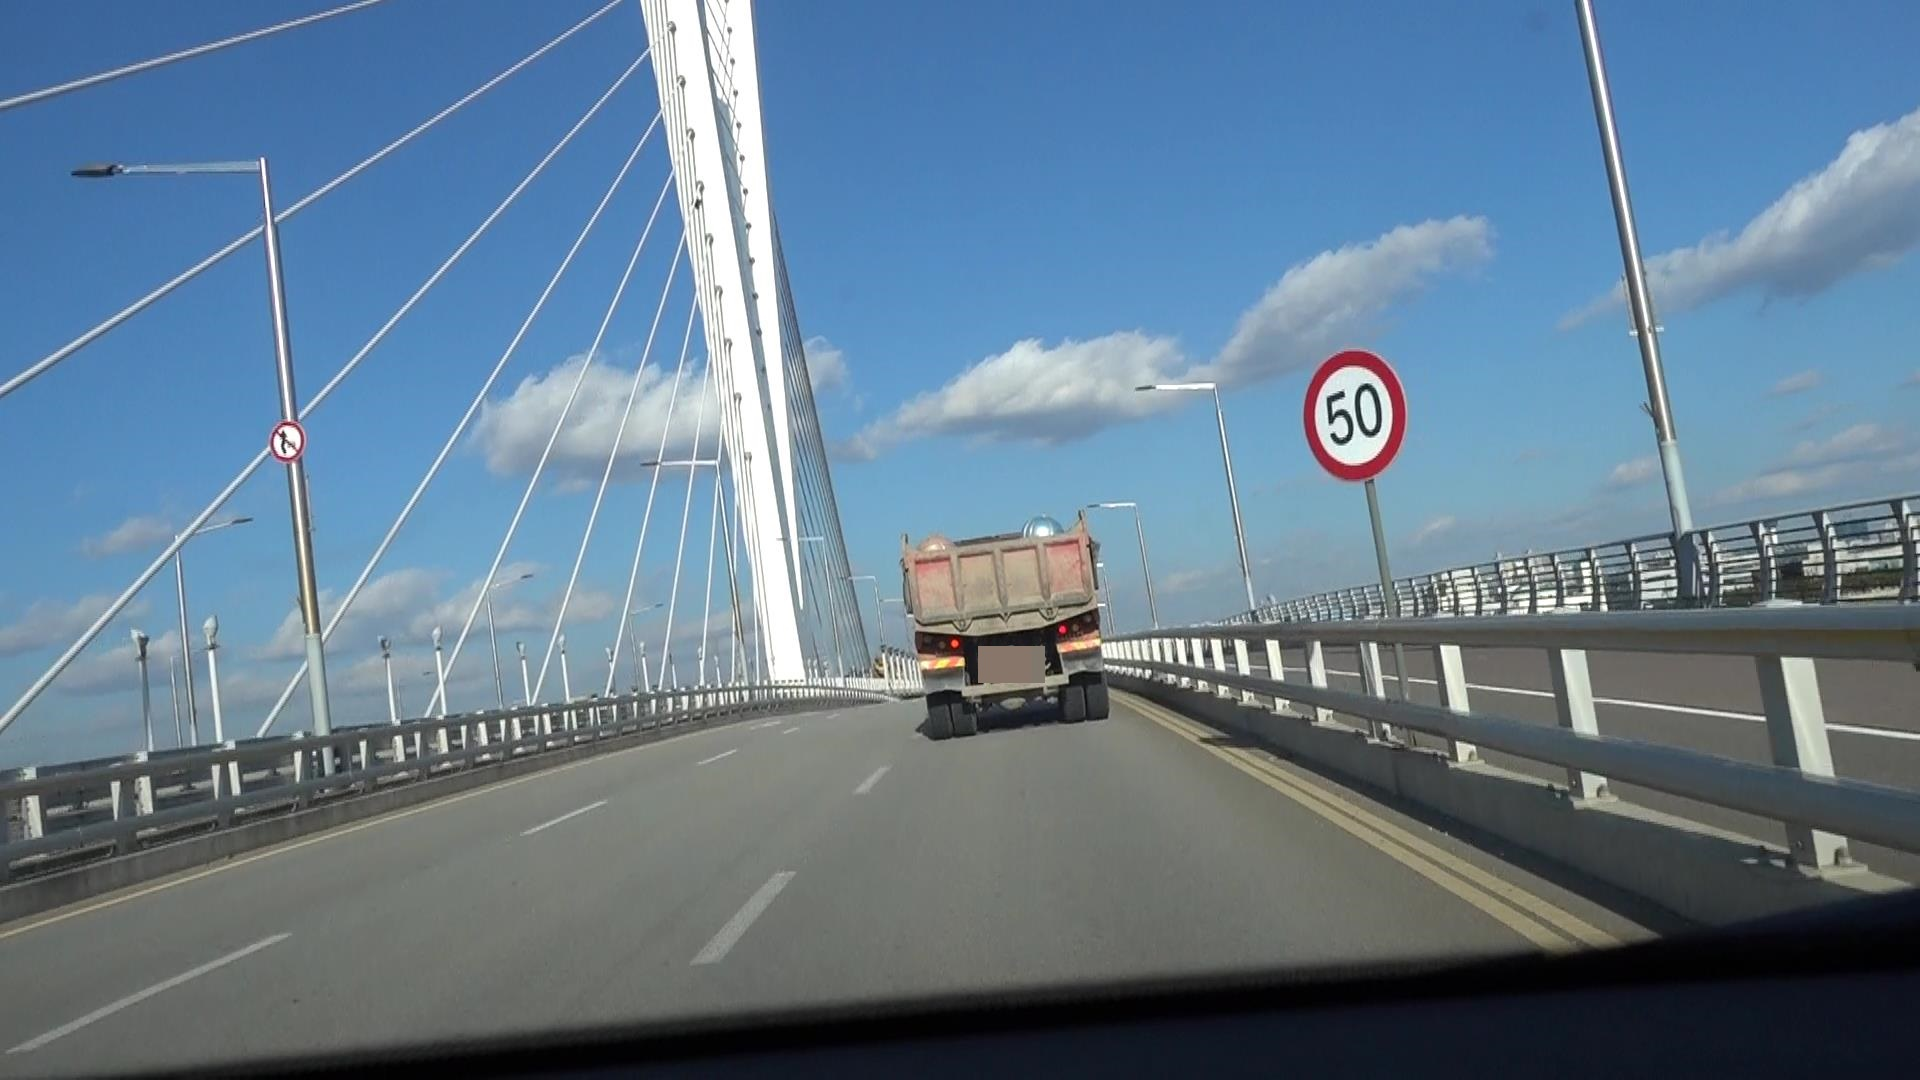불법차량: (898, 510, 1110, 741)
